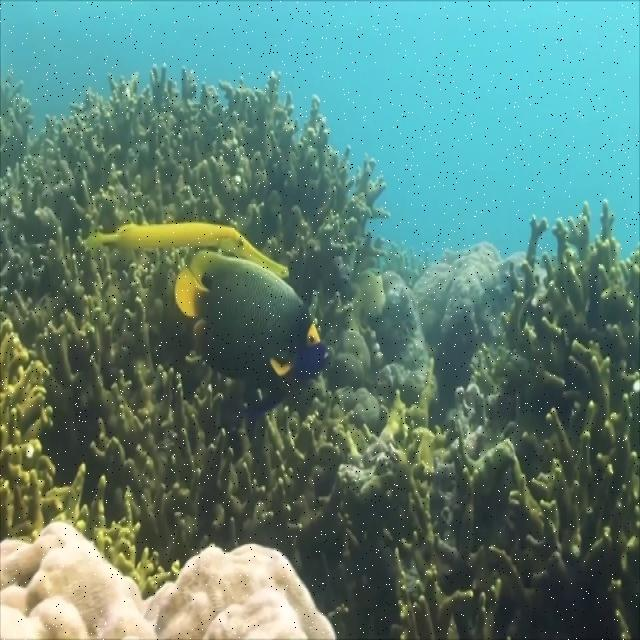fish: (174, 249, 330, 415), (86, 223, 289, 277)
reefs: (0, 62, 639, 639), (0, 522, 337, 639)
